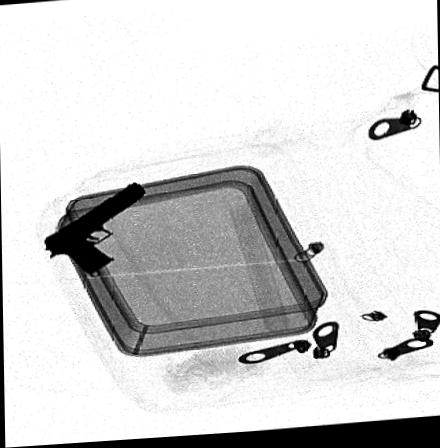Gun: (44, 181, 146, 277)
